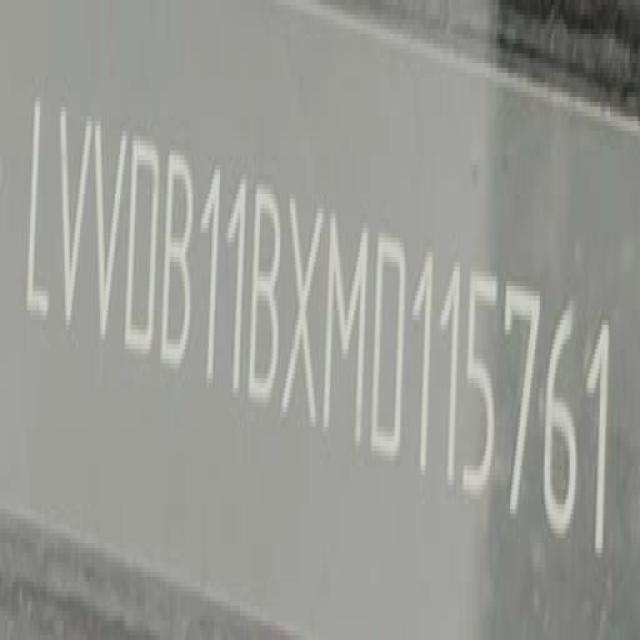1: (584, 314, 611, 560), (197, 153, 222, 390), (412, 239, 436, 479), (439, 262, 464, 485), (225, 176, 246, 390)
5: (461, 262, 500, 508)
6: (542, 291, 580, 539)
7: (500, 273, 541, 523)
B: (158, 147, 194, 386), (247, 181, 282, 404)
D: (369, 234, 406, 464), (124, 135, 159, 361)
L: (24, 70, 51, 329)
M: (320, 212, 372, 443)
V: (90, 112, 128, 348), (56, 101, 93, 343)
X: (282, 192, 321, 424)
